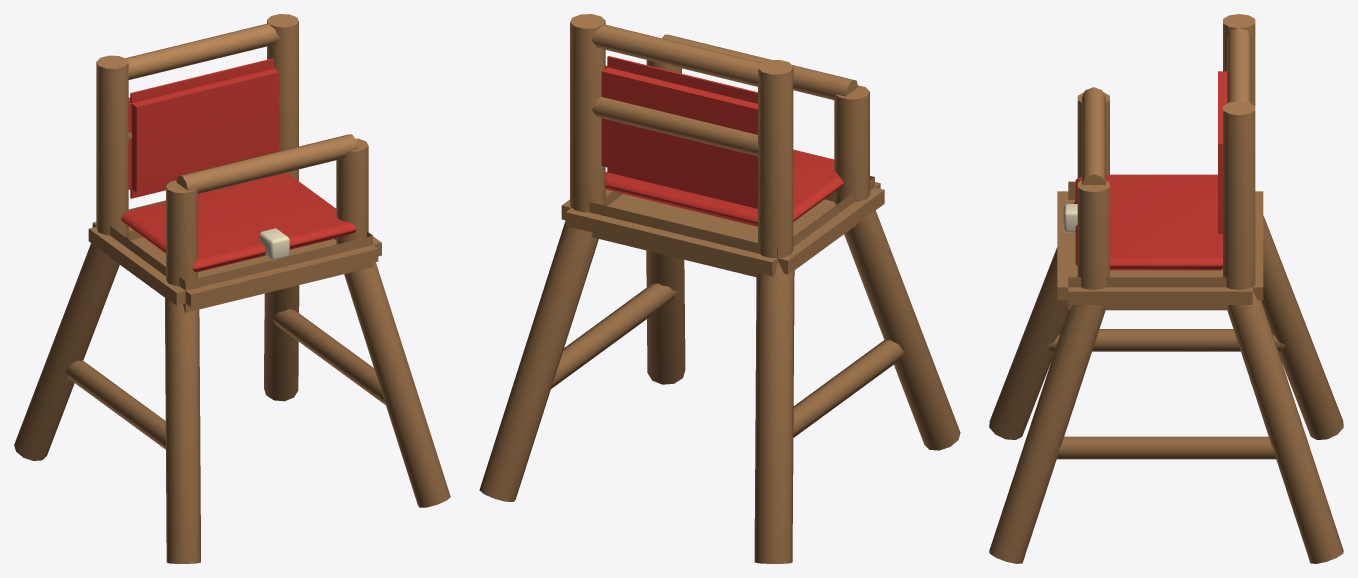
The model's file is HighChair_Wood_01.glb.
3 views of the same model, side by side, from view 1: azimuth 30°, elevation 25°; view 2: azimuth 150°, elevation 25°; view 3: azimuth 270°, elevation 25° (orthographic). The views are drawn at different scales.
Parts seen in each view (by area): view 1: SM_HighChair_Wood_01; view 2: SM_HighChair_Wood_01; view 3: SM_HighChair_Wood_01.
Boxes of the visible parts, x1,y1,x2,y2 form: SM_HighChair_Wood_01: (14, 14, 450, 563); SM_HighChair_Wood_01: (479, 14, 960, 563); SM_HighChair_Wood_01: (989, 14, 1343, 563).
Size of the model in its own units: 0.5591 by 0.7902 by 0.5849.
Materials: 1 (1 with a texture image).
